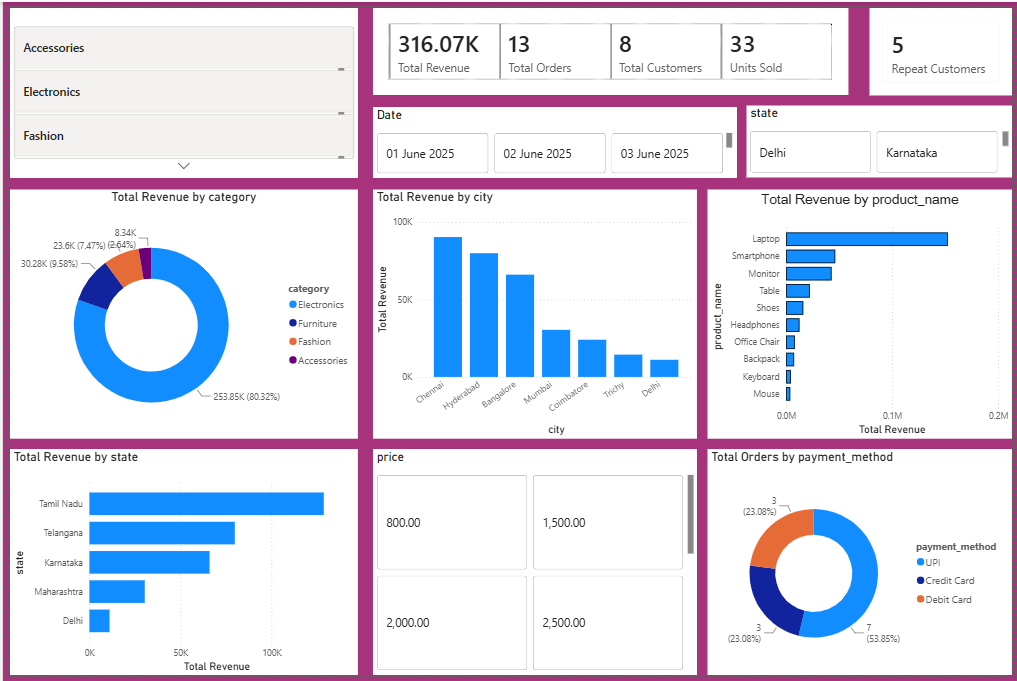

The page's visual inventory and layout, read from the dashboard file:
{"tool":"powerbi","page":{"name":"Page 1","canvas":[1367,910],"ordinal":0},"visuals":[{"type":"cardVisual","fields":{"Data":["ecommerce_analysis order_items.Total Revenue","DateTable.Total Orders","DateTable.Total Customers","DateTable.Units Sold"]},"box":[495.3,0,648.7,118.7],"z":0},{"type":"donutChart","fields":{"Y":["ecommerce_analysis order_items.Total Revenue"],"Category":["ecommerce_analysis products.category"]},"box":[0,247.6,474.8,339.7],"z":1000},{"type":"barChart","fields":{"Category":["ecommerce_analysis products.product_name"],"Y":["ecommerce_analysis order_items.Total Revenue"]},"box":[951.6,247.6,415.4,339.7],"z":2000},{"type":"barChart","fields":{"Category":["ecommerce_analysis customers.state"],"Y":["ecommerce_analysis order_items.Total Revenue"]},"box":[0,601.7,474.8,309],"z":3000},{"type":"donutChart","fields":{"Category":["ecommerce_analysis orders.payment_method"],"Y":["DateTable.Total Orders"]},"box":[951.6,601.7,415.4,309],"z":4000},{"type":"cardVisual","fields":{"Data":["DateTable.Repeat Customers"]},"box":[1172.7,0,194.6,119.1],"z":5000},{"type":"advancedSlicerVisual","fields":{"Values":["DateTable.Date"]},"box":[495.3,135.1,495.3,96.2],"z":6000},{"type":"advancedSlicerVisual","fields":{"Values":["ecommerce_analysis customers.state"]},"box":[1004.8,133,362.2,98.2],"z":7000},{"type":"cardVisual","fields":{"Rows":["ecommerce_analysis products.category"]},"box":[0,0,474.8,231.3],"z":8000},{"type":"columnChart","fields":{"Y":["ecommerce_analysis order_items.Total Revenue"],"Category":["ecommerce_analysis customers.city"]},"box":[495.3,247.6,442,339.7],"z":9000},{"type":"advancedSlicerVisual","fields":{"Values":["ecommerce_analysis products.price"]},"box":[495,602,442,308],"z":10000}]}

Visuals, with their boxes in screenshot pixels (x1, y1, x2, y2), scaled from the page's 1367x910 canvas onto the 1017x681 screenshot:
cardVisual - ecommerce_analysis order_items.Total Revenue x DateTable.Total Orders: <region>368, 0, 851, 89</region>
donutChart - ecommerce_analysis order_items.Total Revenue x ecommerce_analysis products.category: <region>0, 185, 353, 440</region>
barChart - ecommerce_analysis products.product_name x ecommerce_analysis order_items.Total Revenue: <region>708, 185, 1016, 440</region>
barChart - ecommerce_analysis customers.state x ecommerce_analysis order_items.Total Revenue: <region>0, 450, 353, 680</region>
donutChart - ecommerce_analysis orders.payment_method x DateTable.Total Orders: <region>708, 450, 1016, 680</region>
cardVisual - DateTable.Repeat Customers: <region>872, 0, 1016, 89</region>
advancedSlicerVisual - DateTable.Date: <region>368, 101, 737, 173</region>
advancedSlicerVisual - ecommerce_analysis customers.state: <region>748, 100, 1016, 173</region>
cardVisual - ecommerce_analysis products.category: <region>0, 0, 353, 173</region>
columnChart - ecommerce_analysis order_items.Total Revenue x ecommerce_analysis customers.city: <region>368, 185, 697, 440</region>
advancedSlicerVisual - ecommerce_analysis products.price: <region>368, 451, 697, 680</region>
